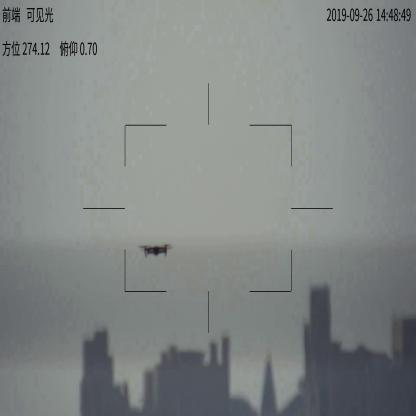uav: (141, 241, 172, 259)
